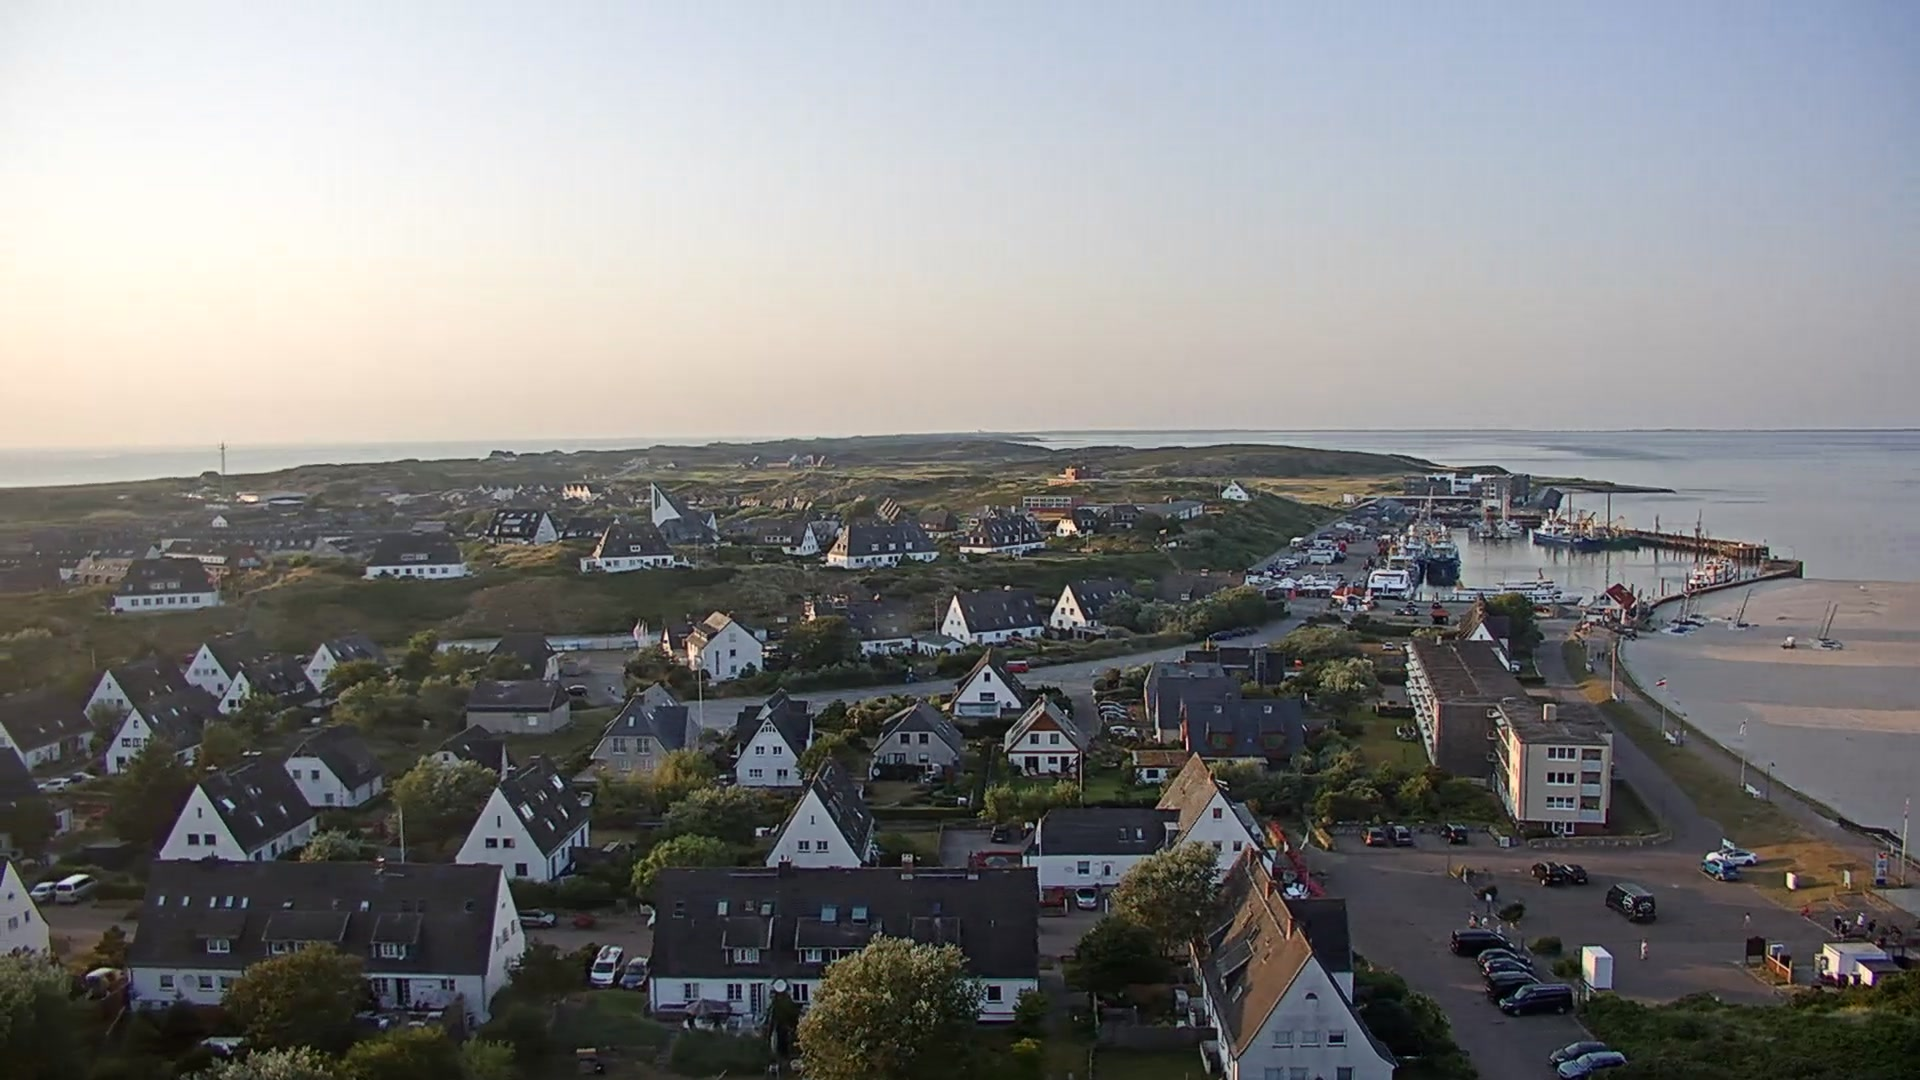human: (1637, 936, 1650, 962), (1852, 911, 1865, 933), (1864, 917, 1878, 938), (1741, 910, 1753, 930), (1840, 914, 1851, 934), (1832, 914, 1841, 937), (1672, 728, 1680, 742), (1680, 727, 1688, 741), (611, 685, 616, 694), (607, 685, 612, 694)
land: (1496, 982, 1574, 1014), (1554, 1047, 1629, 1078), (1446, 927, 1514, 957), (1606, 883, 1658, 923), (1546, 1035, 1609, 1067), (587, 943, 626, 989), (1483, 969, 1543, 999), (51, 871, 98, 905), (616, 955, 652, 993), (83, 966, 128, 997), (1473, 948, 1532, 970), (1477, 957, 1537, 979), (1704, 845, 1757, 868), (1528, 860, 1565, 887), (1698, 856, 1739, 880), (515, 908, 557, 930), (1439, 821, 1470, 845), (1558, 863, 1587, 887), (26, 879, 56, 903), (1357, 825, 1387, 848), (1073, 885, 1100, 910), (34, 776, 70, 794), (1386, 825, 1415, 848), (989, 822, 1011, 843), (561, 683, 589, 697), (1099, 710, 1130, 721), (1020, 819, 1037, 841), (1003, 660, 1029, 673), (1205, 630, 1233, 642), (70, 770, 96, 782), (1096, 700, 1129, 710), (1097, 705, 1129, 714), (1289, 535, 1306, 549), (1108, 725, 1131, 734), (1509, 658, 1523, 673), (1232, 626, 1250, 637), (1382, 641, 1394, 651), (1404, 606, 1416, 615), (1392, 606, 1403, 614), (1432, 601, 1441, 608), (1406, 600, 1415, 607)
sea: (1446, 565, 1585, 604), (1531, 507, 1600, 546), (1683, 555, 1738, 593), (1425, 538, 1460, 584), (1366, 567, 1414, 599), (1496, 486, 1523, 538), (1667, 588, 1700, 628), (1660, 593, 1690, 636), (1384, 554, 1420, 590), (1680, 586, 1712, 622), (1725, 587, 1751, 630), (1812, 599, 1838, 640)
